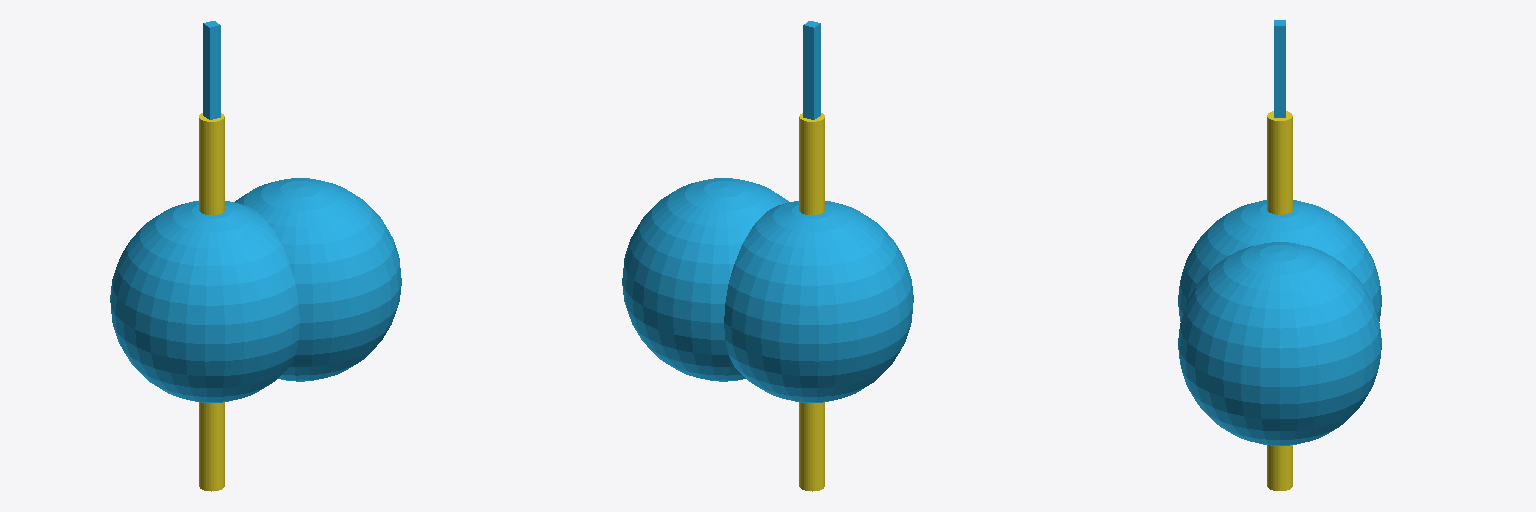
The robot description file, URDF, robot "torsoAndLimb":
<?xml version="1.0" ?>
<robot name="torsoAndLimb" xmlns:xacro="http://ros.org/wiki/xacro">
    <link name="baseLink">
        <visual>
            <geometry>
                <sphere radius="0.1"/>
            </geometry>
            <material>
                <color rgba="0.2 0.7 0.9 1"/>
            </material>
            <origin rpy="0 0 0" xyz="0.1 0 0.3"/>
        </visual>
    </link>
    <joint name="jointA" type="revolute">
        <axis xyz="0 1 0"/>
        <origin rpy="0 0 0" xyz="0.1 0 0.2"/>
        <parent link="baseLink"/>
        <child link="bodyAB"/>
        <limit effort="190" lower="-1.1" upper="0.4141" velocity="5.89"/>
    </joint>
    <link name="bodyAB">
        <inertial>
            <mass value="0.025"/>
            <origin rpy="0 0 0" xyz="0  0  0.1"/>
            <inertia ixx="1.0e-8" ixy="0" ixz="0" iyy="1.0e-8" iyz="0" izz="1.0e-8"/>
        </inertial>
        <visual>
            <geometry>
                <cylinder radius="0.0125" length="0.4"/>
            </geometry>
            <material>
                <color rgba="0.92 0.85 0.2 1"/>
            </material>
            <origin rpy="0 0 0" xyz="0  0  0.1"/>
        </visual>
    </link>
    <joint name="jointB" type="revolute">
        <axis xyz="0 1 0"/>
        <origin rpy="0 0 0" xyz="0 0 0.2"/>
        <parent link="bodyAB"/>
        <child link="endEffectorLink"/>
        <limit effort="190" lower="-1.1" upper="0.4141" velocity="5.89"/>
        <mimic joint="jointA" multiplier="1.25" offset="0"/>
    </joint>
    <link name="endEffectorLink">
        <inertial>
            <mass value="5"/>
            <origin rpy="0 0 0" xyz="0  0  0.1"/>
            <inertia ixx="0.01" ixy="0" ixz="0" iyy="0.01" iyz="0" izz="0.005"/>
        </inertial>
        <visual>
            <geometry>
                <box size="0.0125 0.0125 0.2"/>
            </geometry>
            <material>
                <color rgba="0.2 0.7 0.9 1"/>
            </material>
            <origin rpy="0 0 0" xyz="0 0 0.1"/>
        </visual>
    </link>
    <joint name="jointC" type="revolute">
        <axis xyz="1 0 0"/>
        <origin rpy="0 0 0" xyz="0.1 0 0.0"/>
        <parent link="baseLink"/>
        <child link="head"/>
        <limit effort="190" lower="-1.1" upper="0.4141" velocity="5.89"/>
    </joint>
    <link name="head">
        <visual>
            <geometry>
                <sphere radius="0.1"/>
            </geometry>
            <material>
                <color rgba="0.2 0.7 0.9 1"/>
            </material>
            <origin rpy="0 0 0" xyz="0.1 0 0.3"/>
        </visual>
    </link>
</robot>

--- Render facts (derived) ---
Views: 3 orthographic renders of the robot side by side, from view 1: azimuth 30°, elevation 25°; view 2: azimuth 150°, elevation 25°; view 3: azimuth 270°, elevation 25°.
Robot: torsoAndLimb — 4 links, 3 joints (3 revolute); root link baseLink; default pose: all joints at 0.
Visible links, largest first — view 1: baseLink, head, bodyAB, endEffectorLink; view 2: baseLink, head, bodyAB, endEffectorLink; view 3: head, baseLink, bodyAB, endEffectorLink.
Link boxes in pixels (x1,y1,x2,y2): baseLink: (110, 201, 299, 402); head: (235, 178, 401, 381); bodyAB: (199, 113, 224, 491); endEffectorLink: (203, 21, 220, 119); baseLink: (724, 201, 913, 402); head: (622, 178, 788, 381); bodyAB: (799, 113, 824, 491); endEffectorLink: (803, 21, 820, 119); head: (1178, 242, 1381, 445); baseLink: (1178, 200, 1381, 321); bodyAB: (1267, 111, 1292, 490); endEffectorLink: (1274, 20, 1285, 117).
Bounding box of the posed robot: 0.3 × 0.2 × 0.5 m (x, y, z).
Geometry: primitives only (box / cylinder / sphere), no mesh files.